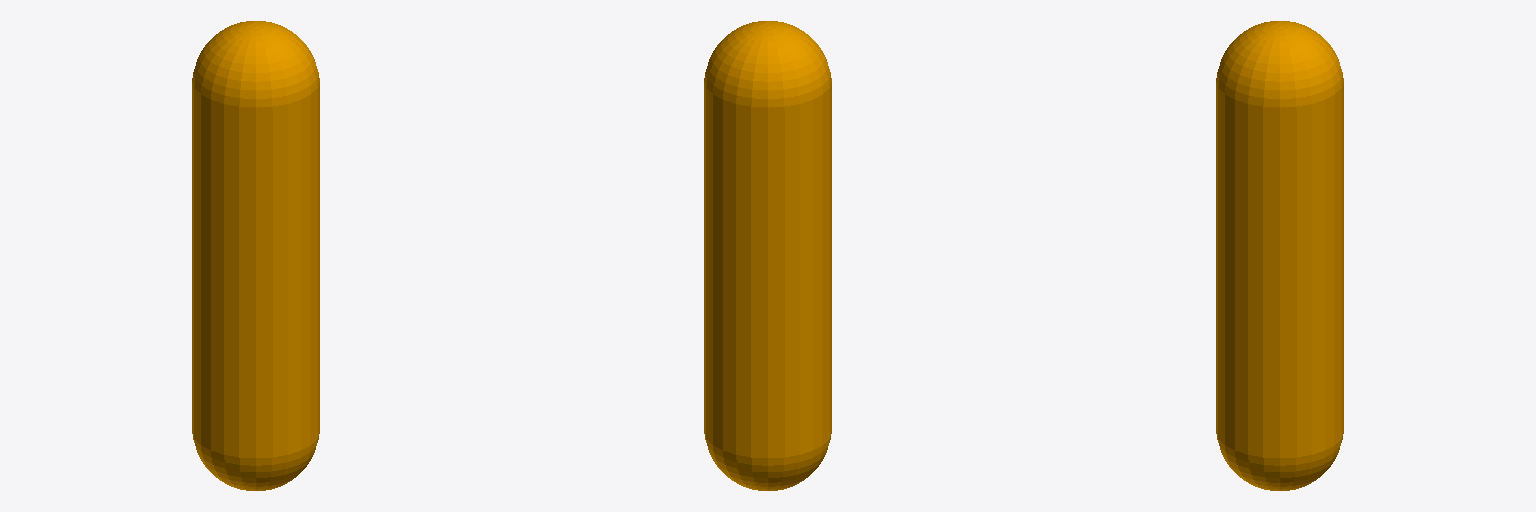
URDF robot description (object):
<?xml version="1.0"?>
<!-- Auto-generated by tools/gen_primitive_objects.py. kind=cap dims=(0.022, 0.13) -->
<robot name="object">
  <link name="object">
    <visual>
      <origin xyz="0 0 0"/>
      <geometry>
        <mesh filename="obj_2.stl"/>
      </geometry>
    </visual>
    <collision>
      <origin xyz="0 0 0"/>
      <geometry>
        <mesh filename="obj_2.stl"/>
      </geometry>
    </collision>
    <inertial>
      <mass value="0.048454"/>
      <inertia ixx="0.00010944" ixy="0.0" ixz="0.0" iyy="0.00010944" iyz="0.0" izz="0.00001129"/>
    </inertial>
  </link>
</robot>

--- Facts derived from the render (not from the file) ---
3 views of the same robot in one strip: view 1: azimuth 30°, elevation 25°; view 2: azimuth 150°, elevation 25°; view 3: azimuth 270°, elevation 25° (orthographic).
Robot: object — 1 links, 0 joints (none); root link object; default pose: all joints at 0.
Links seen in each view (by area): view 1: object; view 2: object; view 3: object.
Boxes of the visible links, box(x1,y1,x2,y2) form: object: box(192, 21, 319, 490); object: box(704, 21, 831, 490); object: box(1216, 21, 1343, 490).
Bounding box of the posed robot: 0.0439 × 0.0439 × 0.174 m (x, y, z).
1 mesh visuals loaded from 1 distinct referenced files (1 binary STL).
